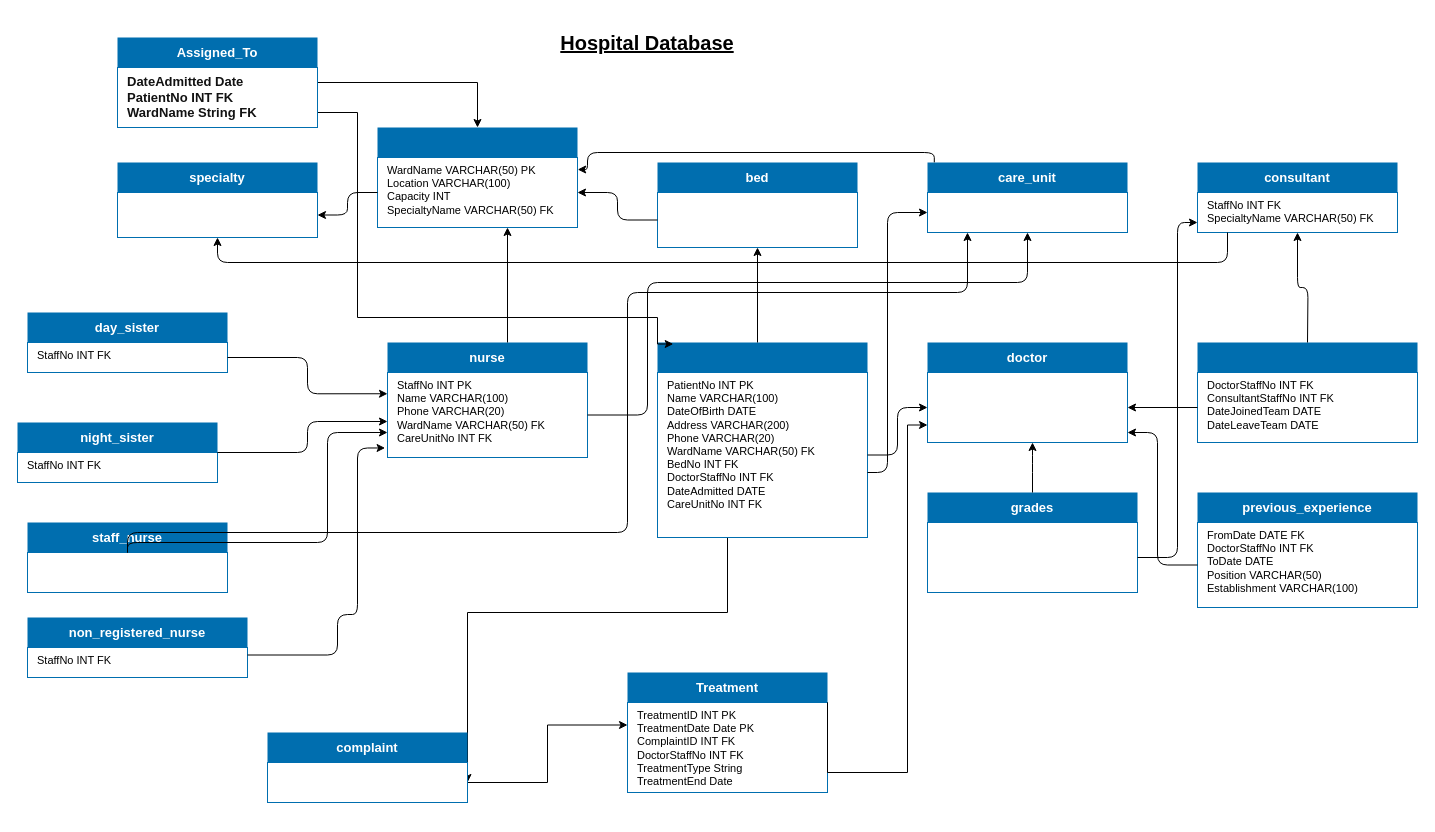
Image size: 1435x832. Some labels were removed from this diagram. The centre of each missing label's shape, as x and y in pixels:
"BedNo INT PK WardName VARCHAR(50) FK Status VARCHAR(20)" goes at (757,220).
"belongs_to_team" goes at (1307,357).
"CareUnitNo INT PK WardName VARCHAR(50) FK" goes at (1027,212).
"ComplaintID INT PK Description VARCHAR(300)" goes at (367,782).
"ConsultantStaffNo INT FK DoctorStaffNo INT FK ReviewDate DATE Grade VARCHAR(5)" goes at (1032,557).
"patient" goes at (762,357).
"SpecialtyName VARCHAR(50) PK Description VARCHAR(200)" goes at (217,215).
"StaffNo INT FK CareUnitNo INT FK" goes at (127,572).
"StaffNo INT PK Name VARCHAR(100) Position VARCHAR(50) Phone VARCHAR(20)" goes at (1027,407).
"ward" goes at (477,142).
